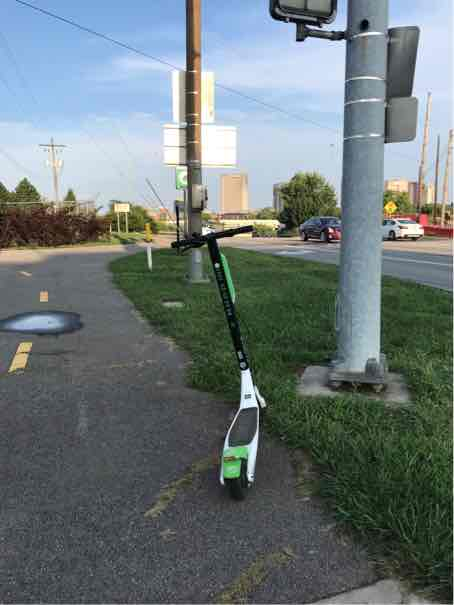scooter: (167, 212, 278, 503)
